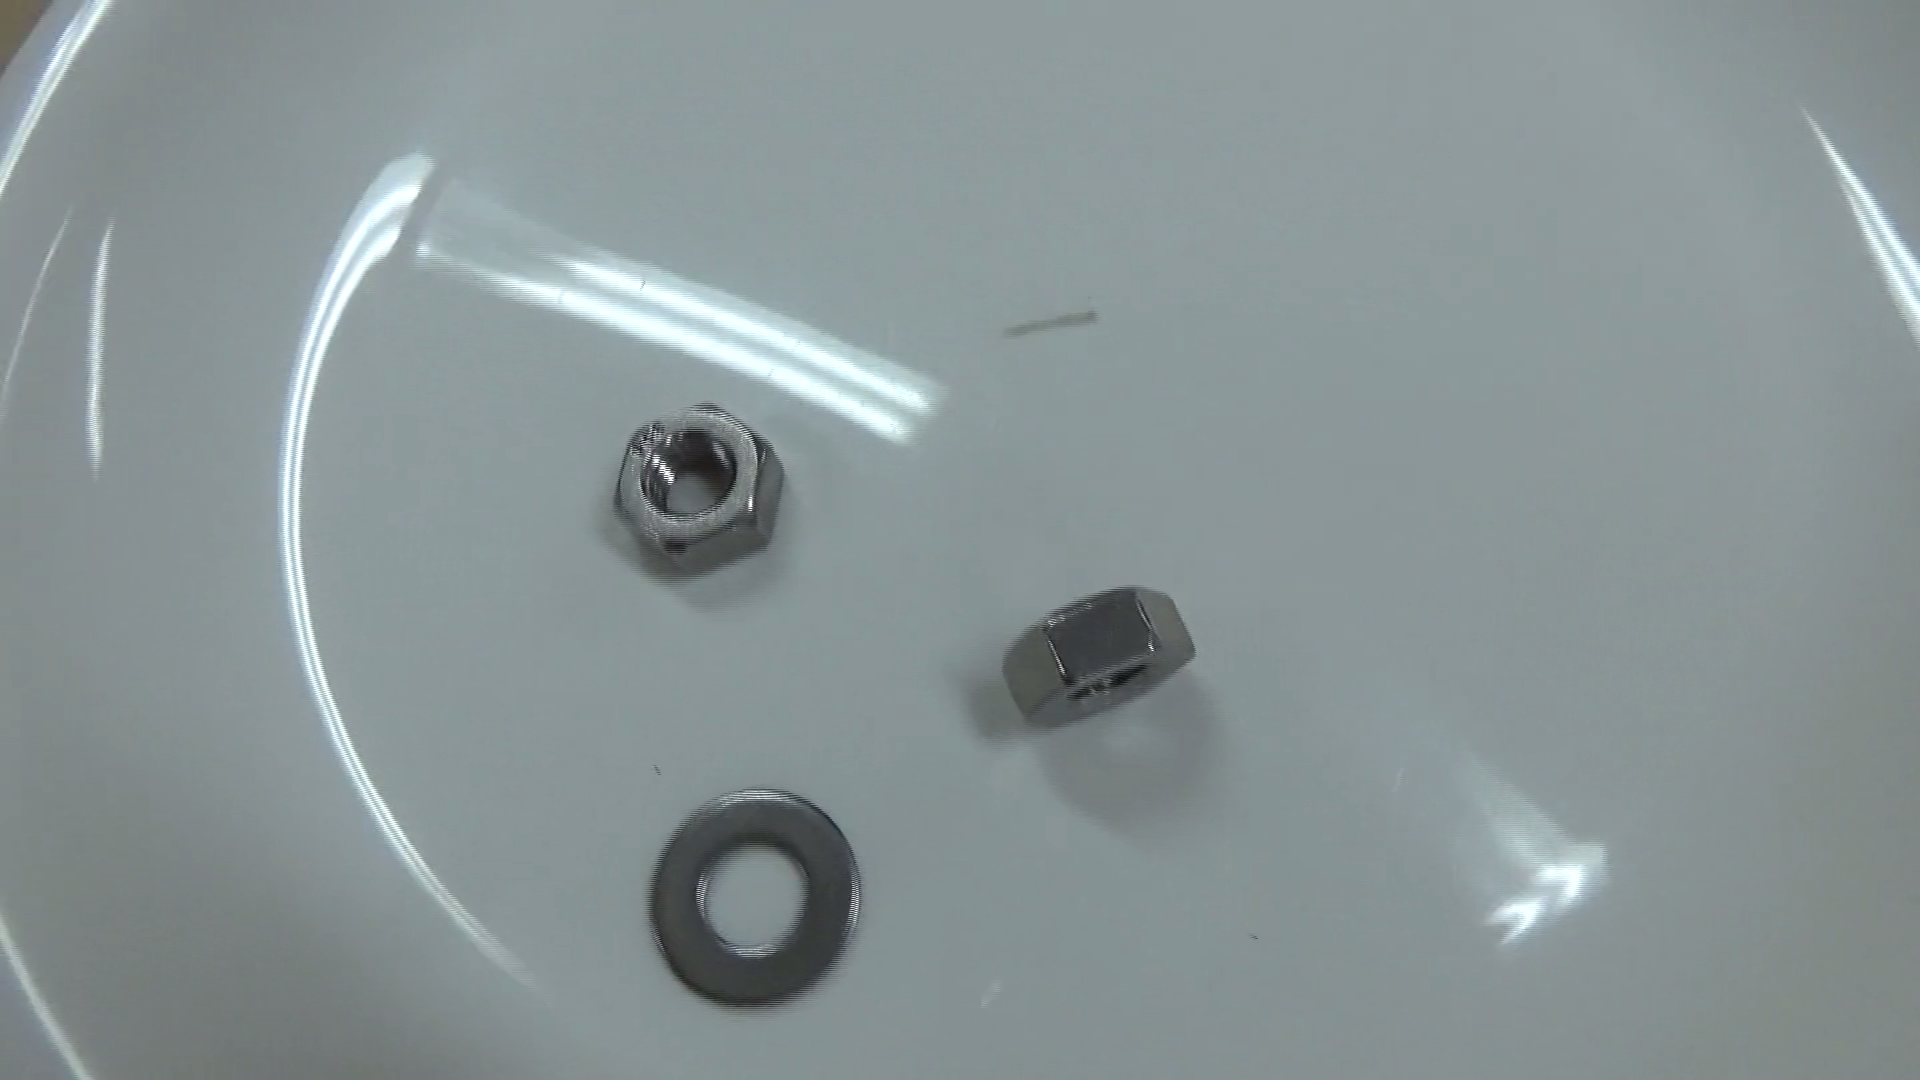nut: (601, 378, 796, 604), (992, 570, 1197, 752)
washer: (636, 775, 876, 1022)
